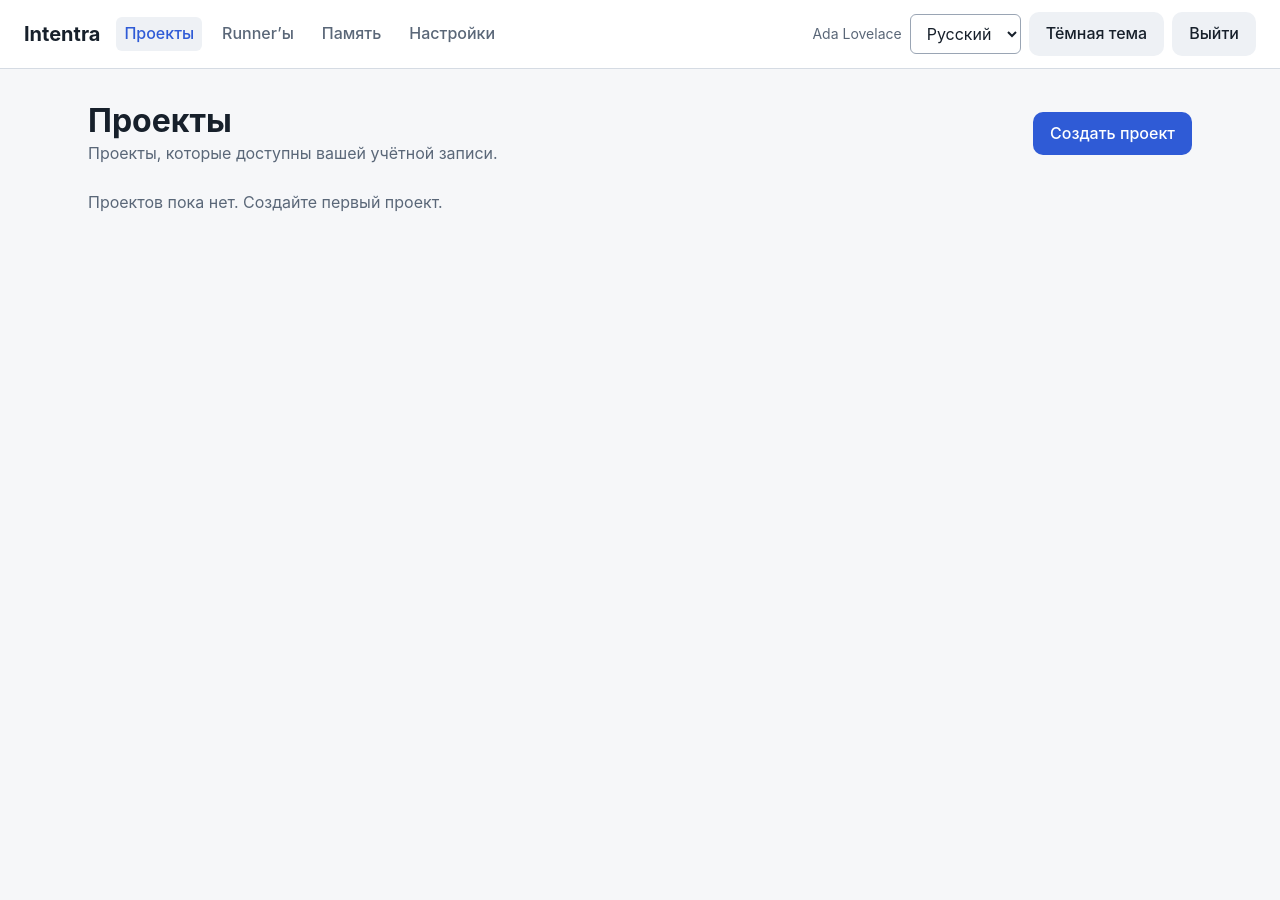
Test: ProjectsPage › validates the create dialog without calling the API
This screenshot has width=1280, height=900.
Check: the text "Проектов пока нет. Создайте первый проект." is shown, box [88,192,443,212]
Click the button "Создать проект".
click(1113, 133)  # box [1033,112,1192,155]
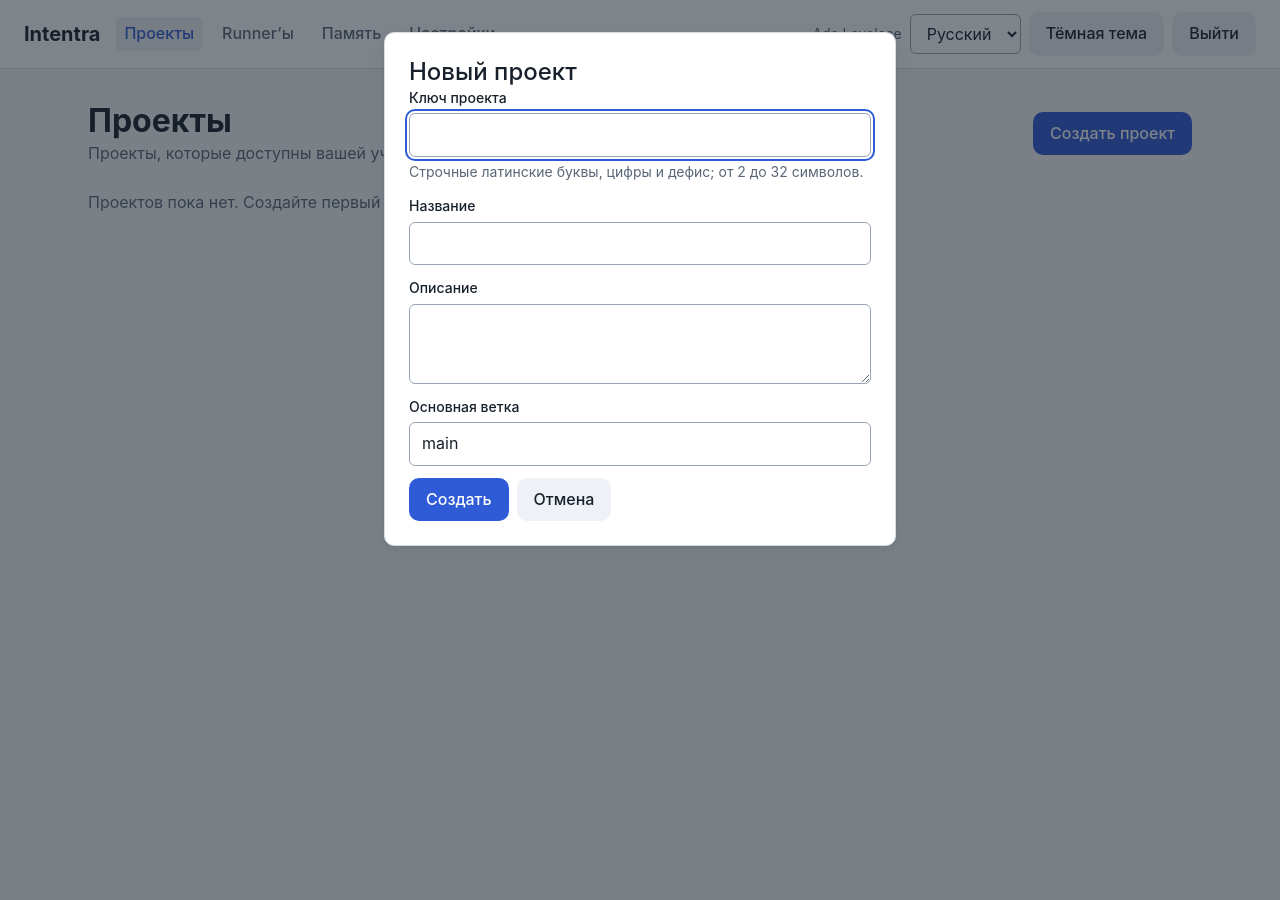
Check: the dialog is shown, box [384,32,896,546]
Click the button "Создать".
click(459, 500)  # box [409,478,509,521]
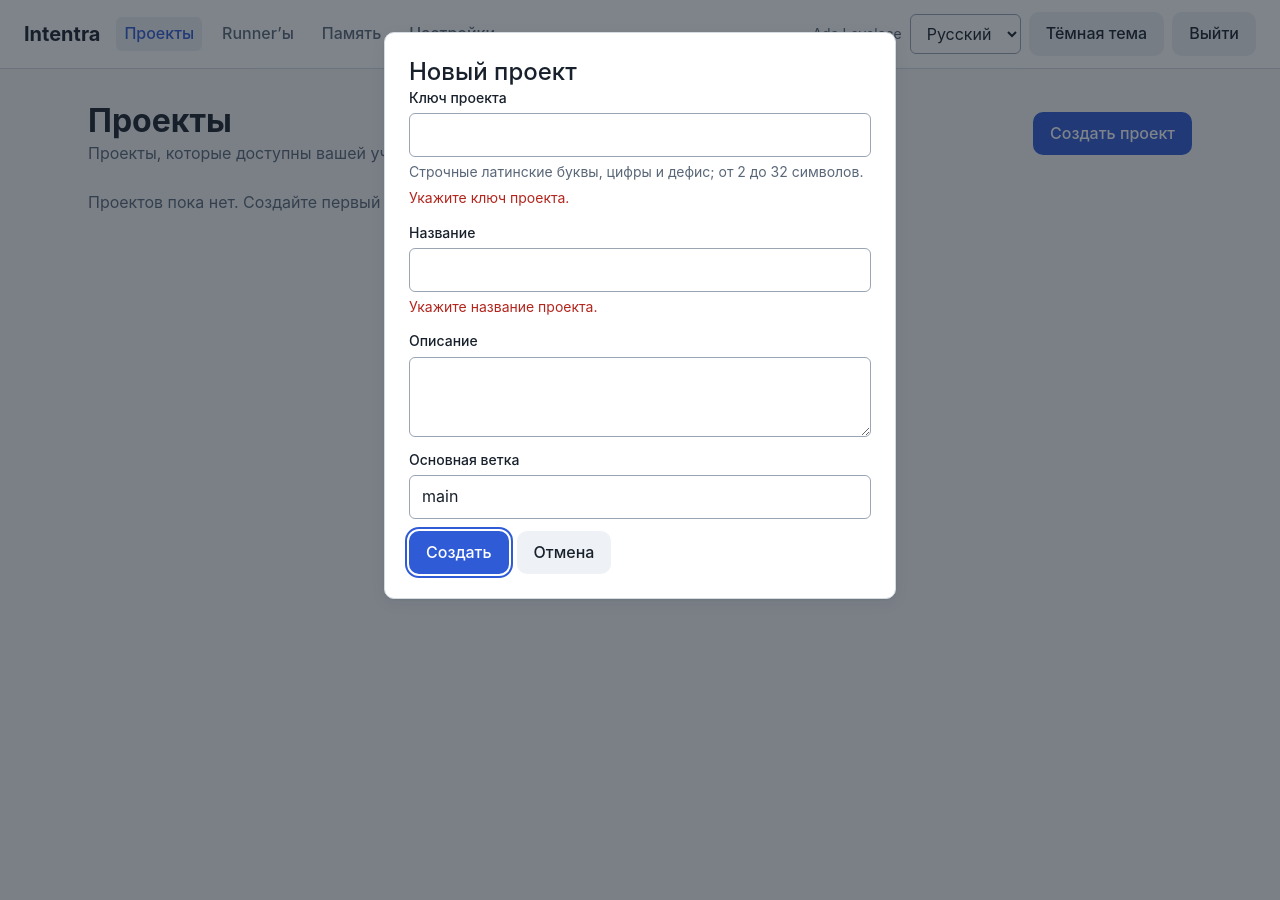
Check: the text "Укажите ключ проекта." is shown, box [409,189,569,206]
Check: the text "Укажите название проекта." is shown, box [409,298,598,315]
